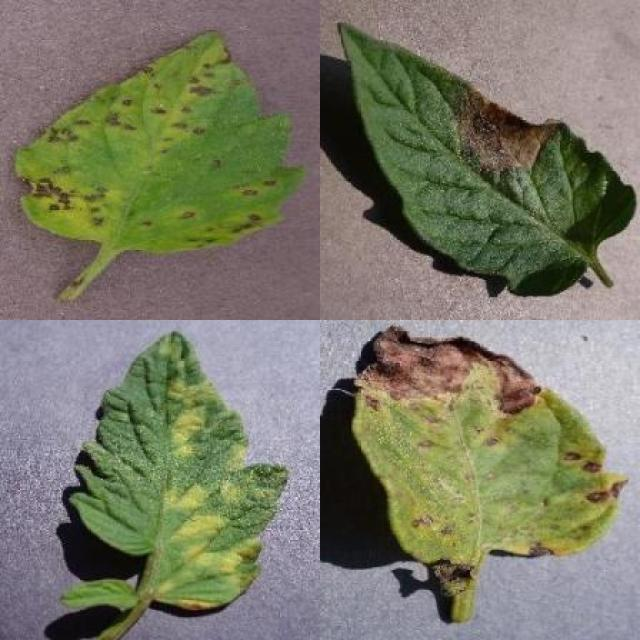Late Blight: (337, 15, 637, 298)
Leaf Mold: (67, 329, 290, 612)
Septoria: (355, 322, 631, 568), (13, 28, 306, 255)
